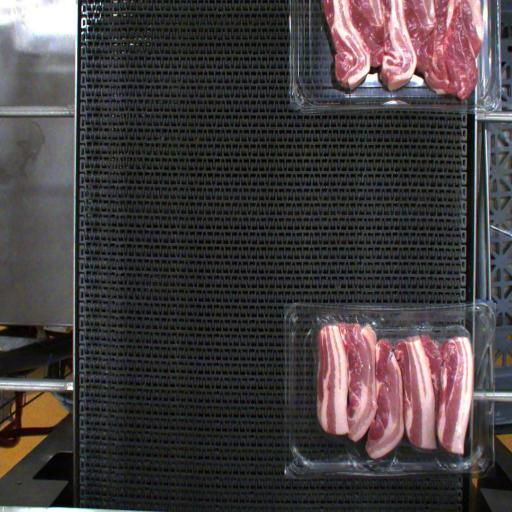unsealed: (304, 304, 492, 474)
